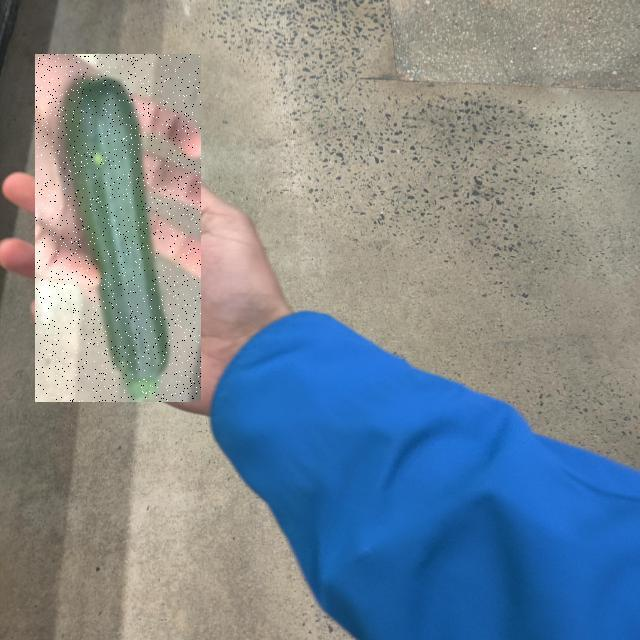Zuccini: (35, 54, 201, 402)
